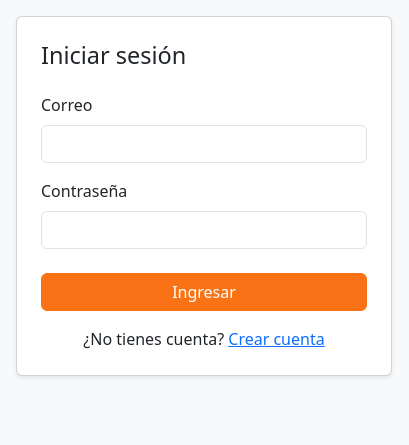
it: página Login › muestra los errores de validación al enviar el formulario vacío
What coordinates should you click on to do the following:
click the button "Ingresar"
I would click on:
 (204, 292)
Its box is [41, 273, 367, 311].
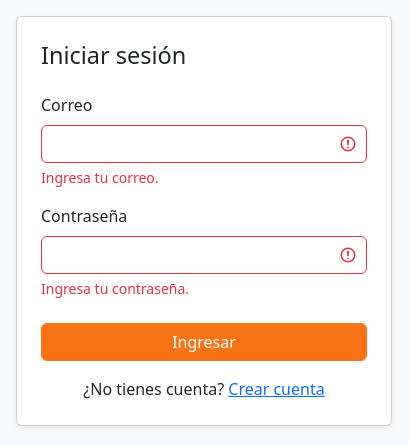
Expected: the text "Ingresa tu correo." is shown, [41, 168, 158, 187]
Expected: the text "Ingresa tu contraseña." is shown, [41, 279, 189, 298]
